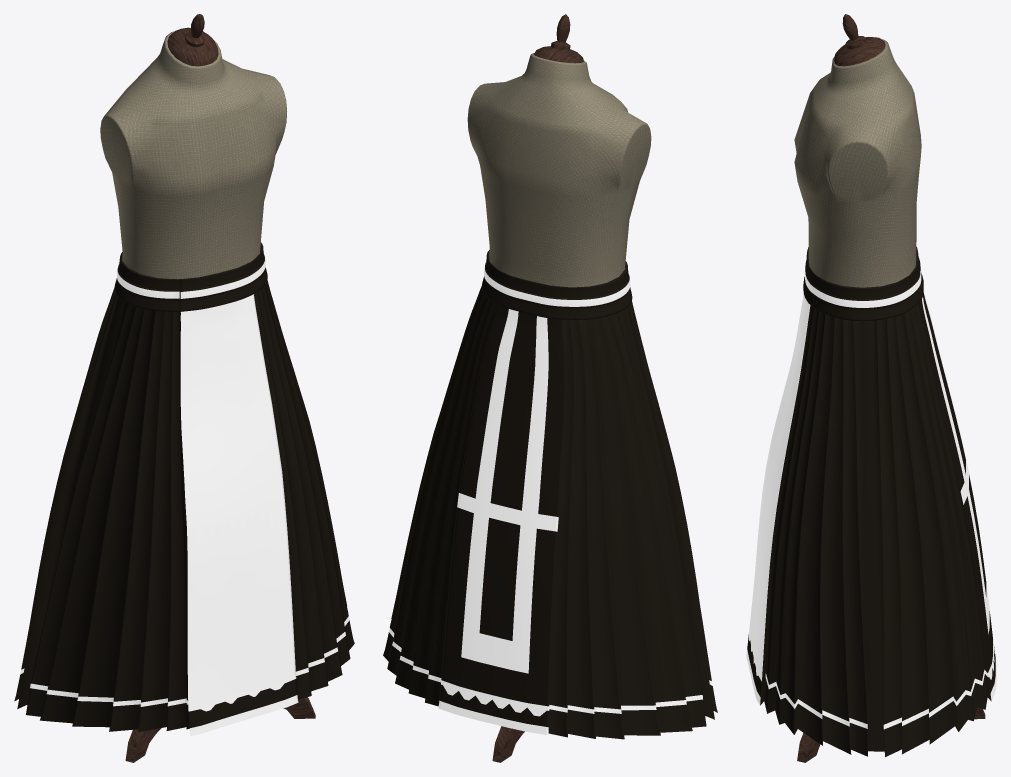
The model's file is mannequin-skirt.glb.
3 renders of one model, left to right at view 1: azimuth 30°, elevation 25°; view 2: azimuth 150°, elevation 25°; view 3: azimuth 270°, elevation 25°, orthographic.
Visible parts, largest first — view 1: Plane.001, pCylinder11, Cylinder, Cylinder.002; view 2: Plane.001, pCylinder11, Cylinder, Cylinder.002; view 3: Plane.001, pCylinder11, Cylinder, Cylinder.002.
Boxes of the visible parts, x1=… form: Plane.001: x1=14, y1=280, x2=354, y2=736; pCylinder11: x1=100, y1=14, x2=315, y2=762; Cylinder: x1=114, y1=242, x2=267, y2=311; Cylinder.002: x1=117, y1=255, x2=265, y2=300; Plane.001: x1=383, y1=286, x2=717, y2=739; pCylinder11: x1=467, y1=14, x2=651, y2=762; Cylinder: x1=481, y1=250, x2=632, y2=319; Cylinder.002: x1=484, y1=263, x2=630, y2=308; Plane.001: x1=746, y1=291, x2=996, y2=756; pCylinder11: x1=794, y1=14, x2=985, y2=762; Cylinder: x1=803, y1=246, x2=923, y2=321; Cylinder.002: x1=804, y1=258, x2=921, y2=309.
Bounding box in the file's own units: 83.37 × 173 × 55.91.
Materials: 7 (1 with a texture image).
